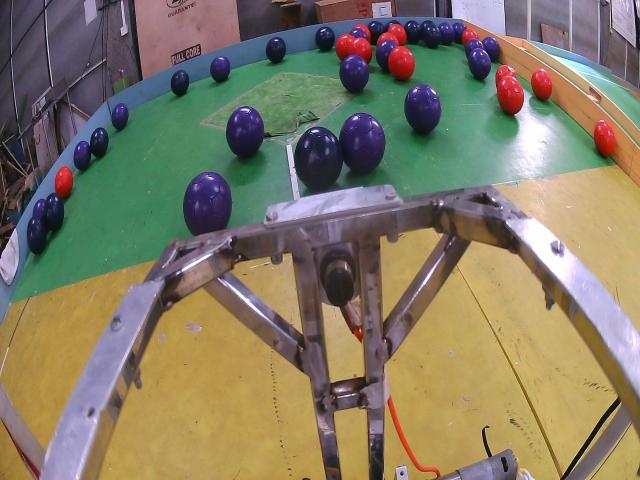jambhalya: (182, 172, 232, 235), (339, 112, 385, 173), (226, 105, 264, 158), (404, 83, 441, 133), (340, 55, 369, 93), (375, 40, 398, 72), (469, 48, 491, 80), (210, 55, 231, 82), (74, 140, 91, 170), (111, 103, 129, 130), (482, 37, 500, 62), (369, 20, 386, 45), (439, 22, 455, 46), (465, 38, 484, 58), (32, 198, 45, 217), (350, 28, 369, 39)
kaalyya: (294, 127, 342, 192), (44, 193, 64, 232), (26, 217, 46, 255), (375, 40, 398, 72), (90, 127, 109, 158), (266, 37, 286, 63), (315, 27, 335, 52), (171, 70, 189, 97), (422, 23, 441, 48), (404, 20, 421, 45), (369, 20, 385, 42)
